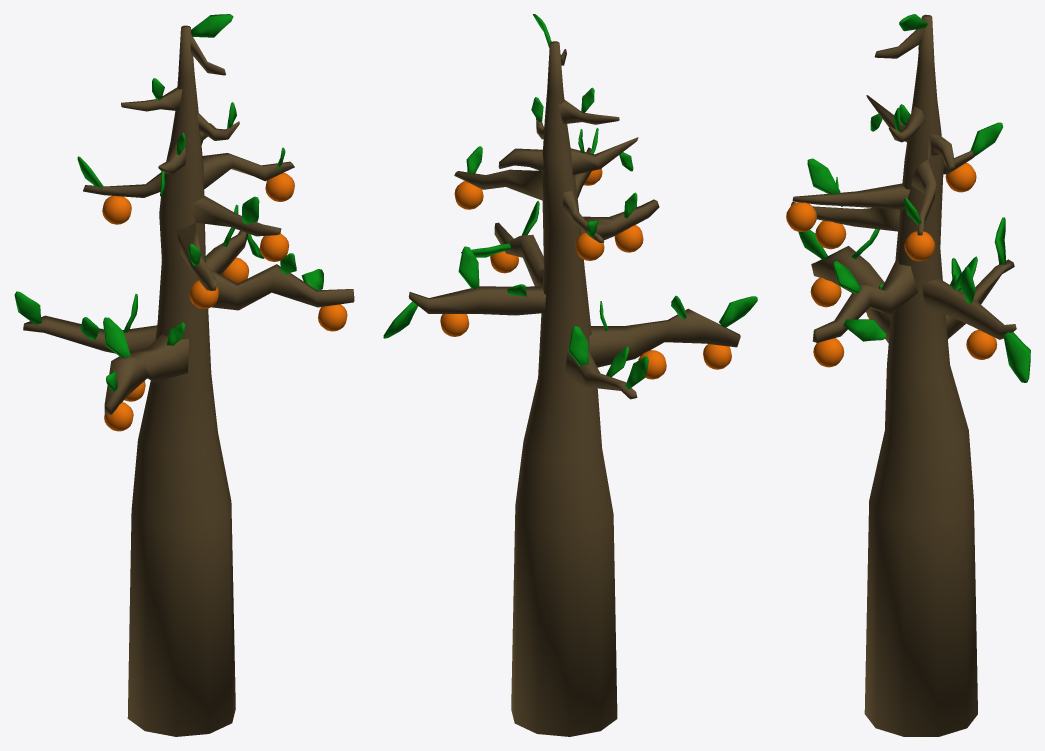
Rendered from tree_orange.glb.
3 views of the same model, side by side, from view 1: azimuth 30°, elevation 25°; view 2: azimuth 150°, elevation 25°; view 3: azimuth 270°, elevation 25° (orthographic). The views are drawn at different scales.
Visible parts, largest first — view 1: body, branch, leaf, fruit; view 2: body, branch, leaf, fruit; view 3: body, branch, leaf, fruit.
Boxes of the visible parts, x1,y1,x2,y2 form: body: (127, 25, 235, 736); branch: (23, 34, 354, 414); leaf: (14, 14, 323, 391); fruit: (102, 172, 347, 431); body: (511, 41, 617, 736); branch: (408, 49, 740, 399); leaf: (383, 14, 757, 389); fruit: (440, 168, 731, 379); body: (864, 14, 977, 736); branch: (791, 28, 1016, 342); leaf: (798, 14, 1030, 382); fruit: (786, 162, 997, 367).
Size of the model in its own units: 0.4124 by 1.02 by 0.316.
